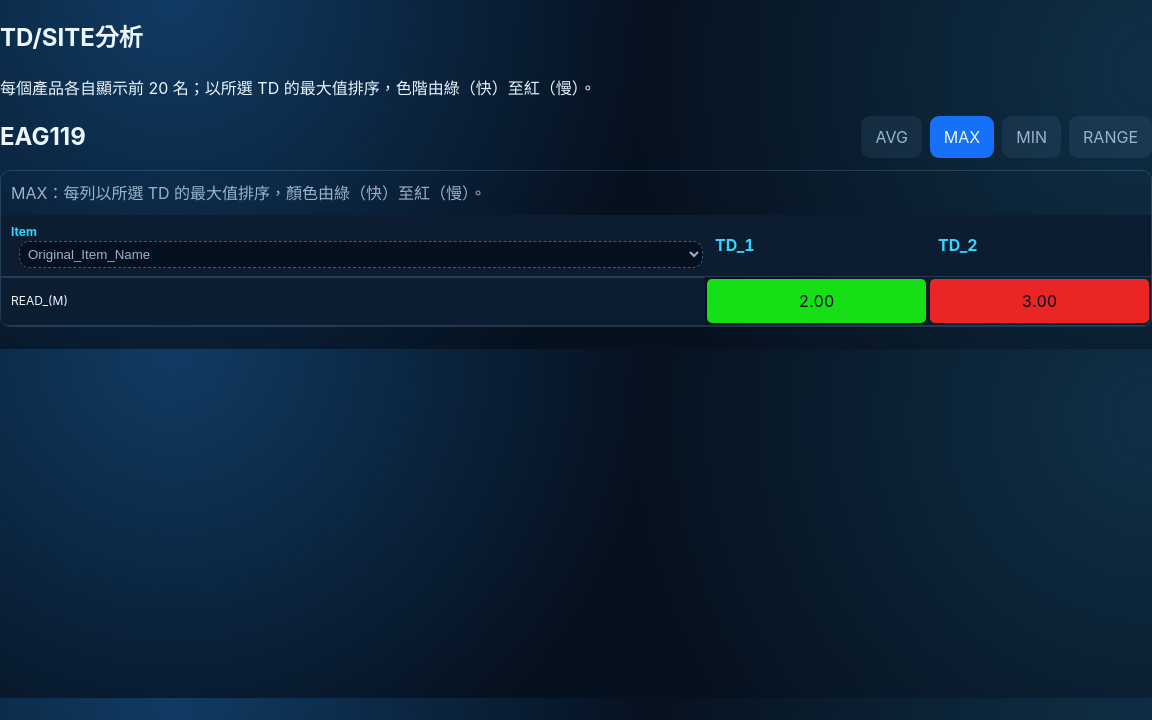
TdAnalysisTab › switches statistics and opens a closable TD detail dialog
Click the button "RANGE" at (1110, 137), box [1069,116,1151,158]
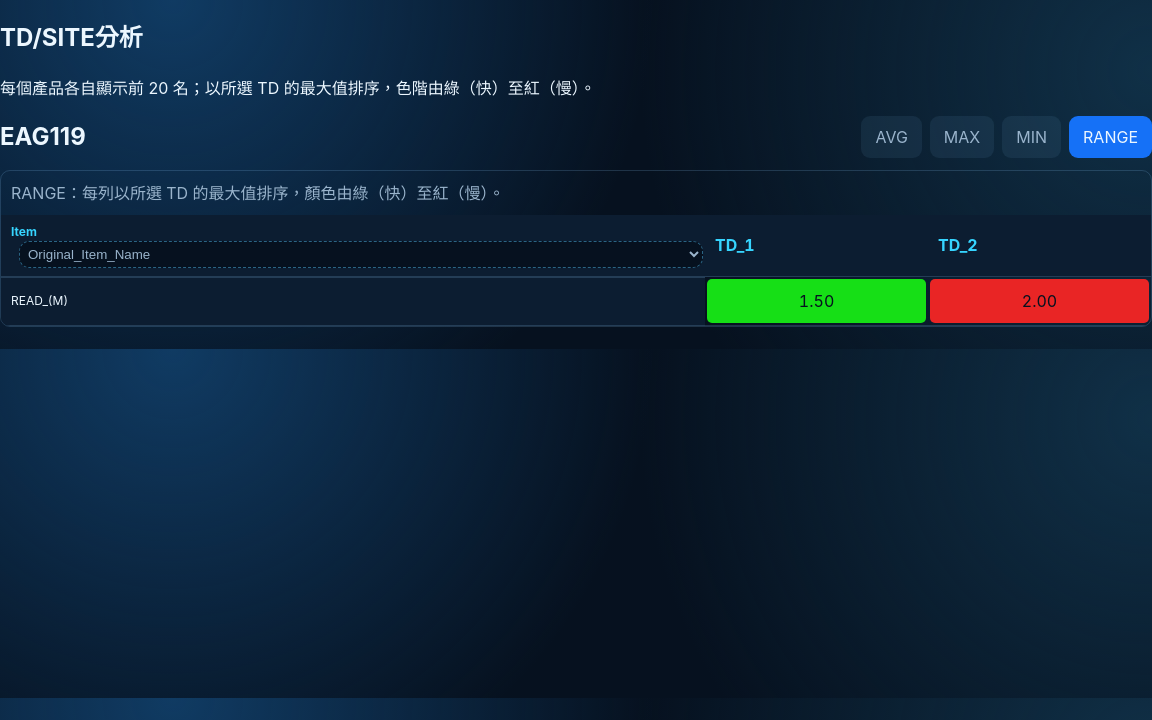
Expected: the button "RANGE" is pressed, [1069,116,1151,158]
Expected: the button "MAX" is not pressed, [930,116,994,158]
Click the button "2.00" at (1040, 301), box [930,279,1149,323]
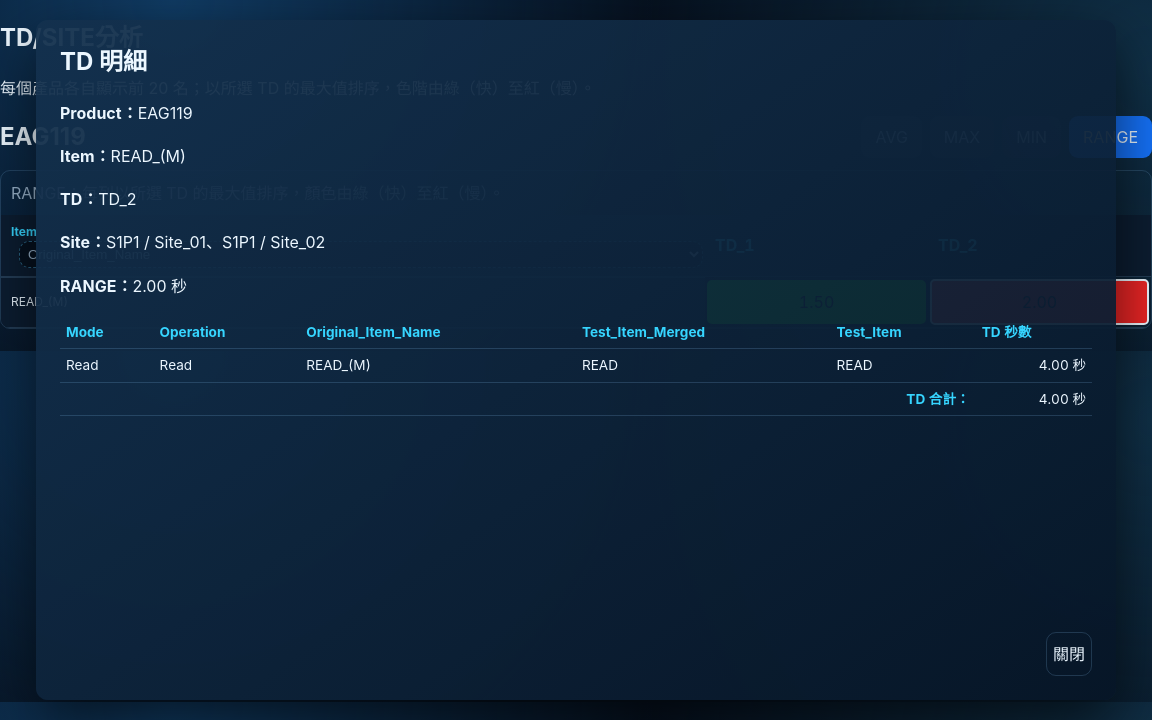
Expected: the dialog "TD 明細" shows "TD_2", [98,189,137,209]
Expected: the dialog "TD 明細" shows "2.00 秒"
Expected: the dialog "TD 明細" shows "READ_(M)", [111,146,186,166]
Click the button "關閉" at (1069, 654), box [1046,632,1092,676]
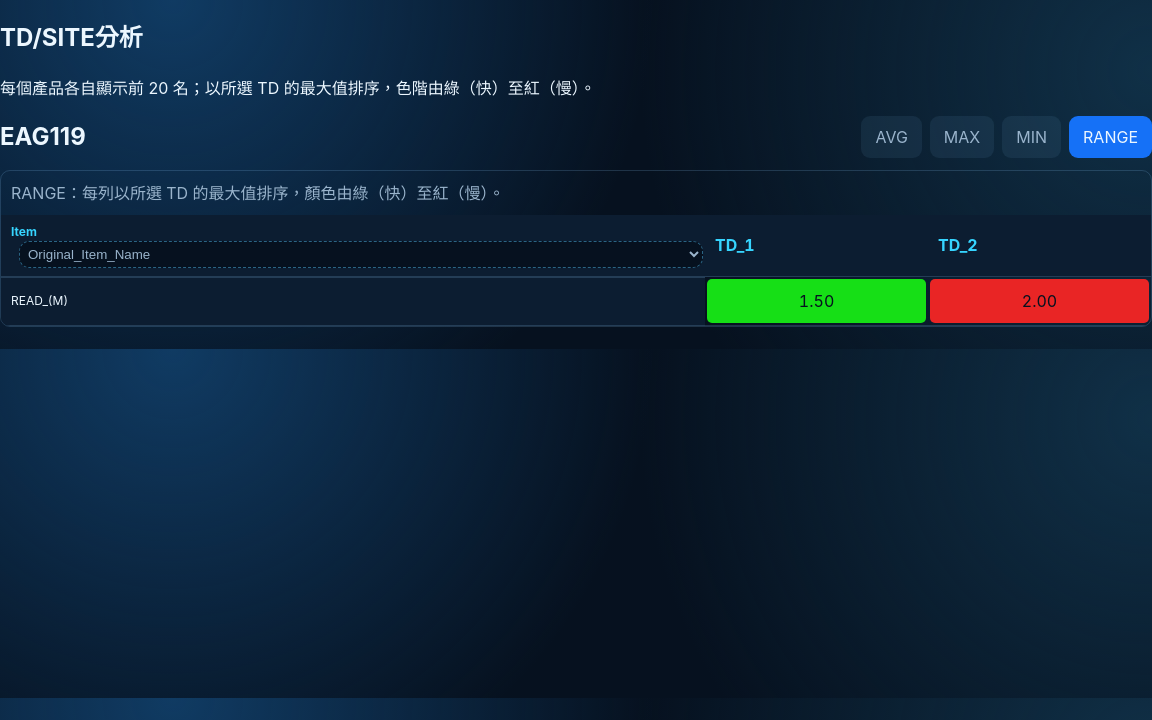
Expected: the heading "TD 明細" is gone
